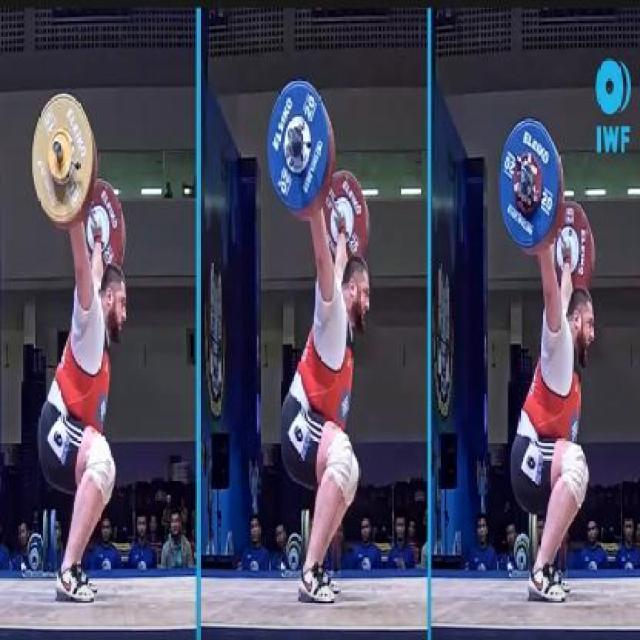barbell: (265, 60, 351, 225), (22, 85, 113, 239), (498, 112, 572, 273)
